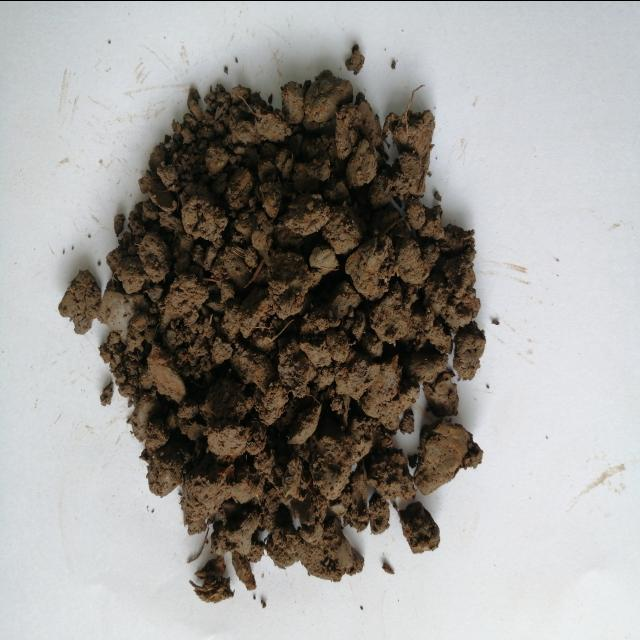soil: (143, 105, 470, 559)
